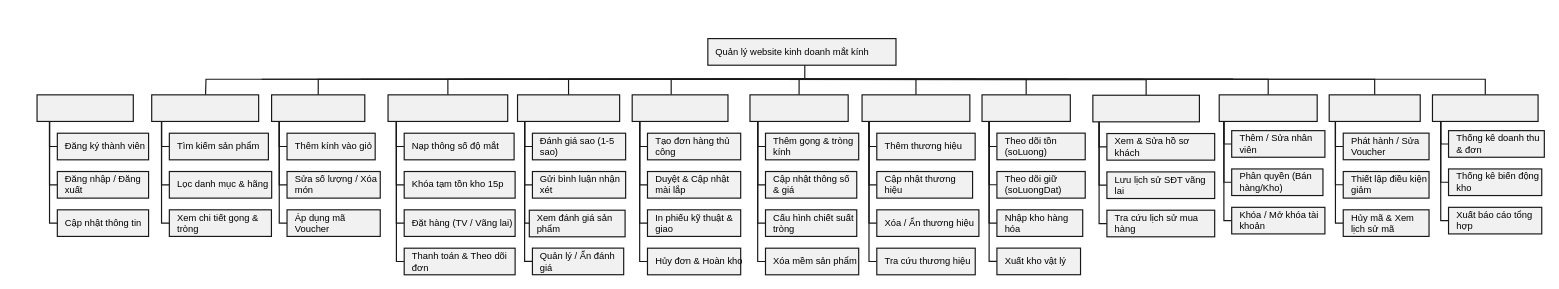
Some shapes in this 1559 by 289 pixel diagram are drawn without their labels. Each missing label, with the centre of its shape:
Quản lý giỏ hàng: the point at 318,108
Quản lý khách hàng: the point at 1146,108
Quản lý nhân viên: the point at 1267,108
Quản lý sản phẩm: the point at 798,108
Quản lý thương hiệu: the point at 915,108
Quản lý tài khoản: the point at 85,108
Quản lý tồn kho: the point at 1026,108
Quản lý Voucher: the point at 1374,108
Quản lý đơn hàng: the point at 679,108
Thống kê & Báo cáo: the point at 1485,108
Tra cứu & Xem kính: the point at 205,108
Đánh giá sản phẩm: the point at 568,108
Đặt hàng & Thanh toán: the point at 447,108
